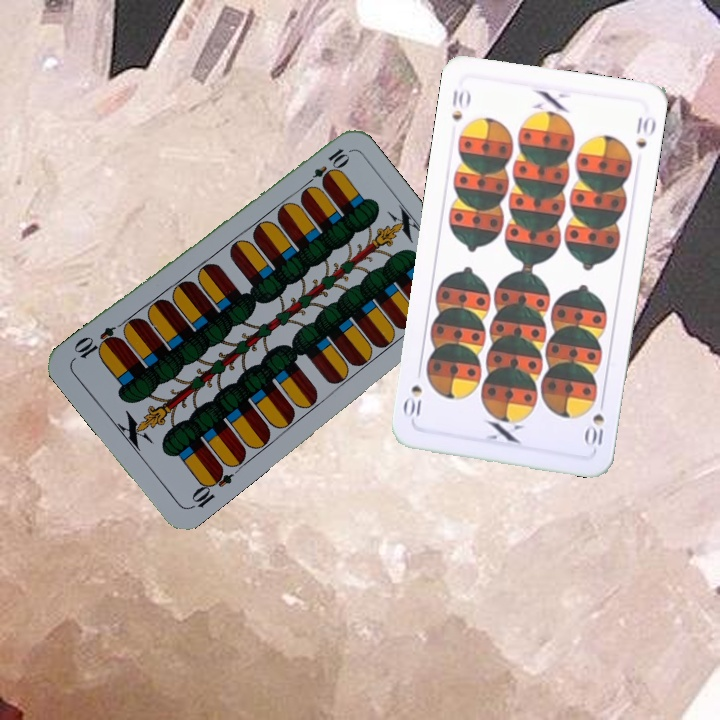E10: (186, 462, 236, 512), (300, 144, 351, 191)
S10: (582, 393, 607, 452), (447, 85, 473, 123)
